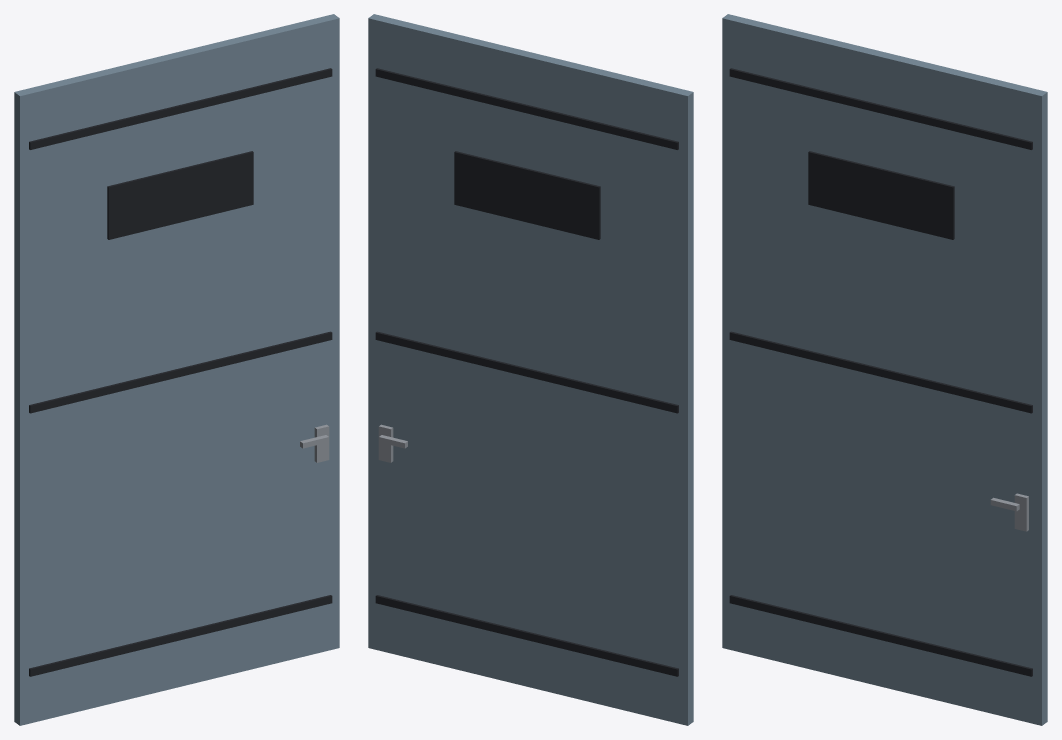
The model's file is SM_Door_metal_160x300.fbx.
The picture shows the model from 3 angles, left to right: view 1: azimuth 30°, elevation 25°; view 2: azimuth 150°, elevation 25°; view 3: azimuth 330°, elevation 25°; orthographic projection.
Visible parts, largest first — view 1: SM_Door_metal_160x300; view 2: SM_Door_metal_160x300; view 3: SM_Door_metal_160x300.
Boxes of the visible parts, x1,y1,x2,y2 form: SM_Door_metal_160x300: [14, 14, 339, 725]; SM_Door_metal_160x300: [368, 14, 693, 725]; SM_Door_metal_160x300: [722, 14, 1047, 725].
Bounding box in the file's own units: 1.59 × 2.99 × 0.175.
